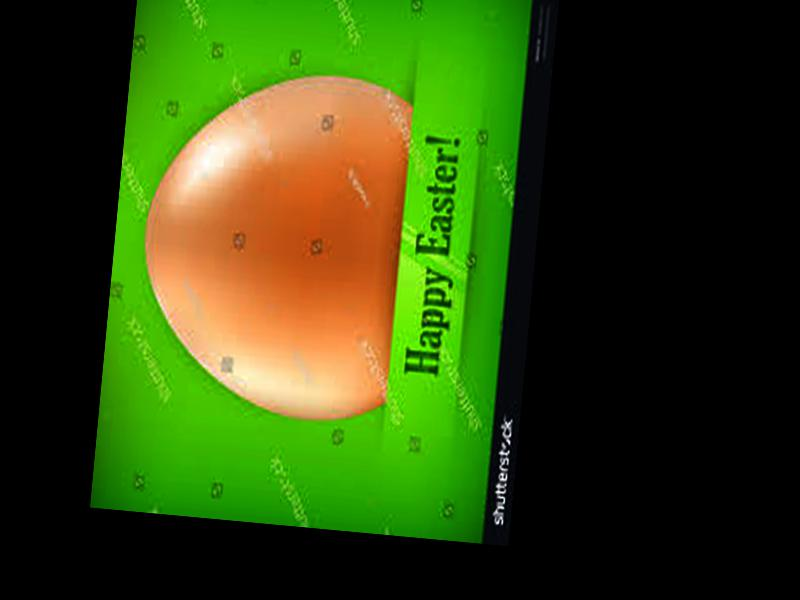Eggs: (129, 60, 415, 425)
